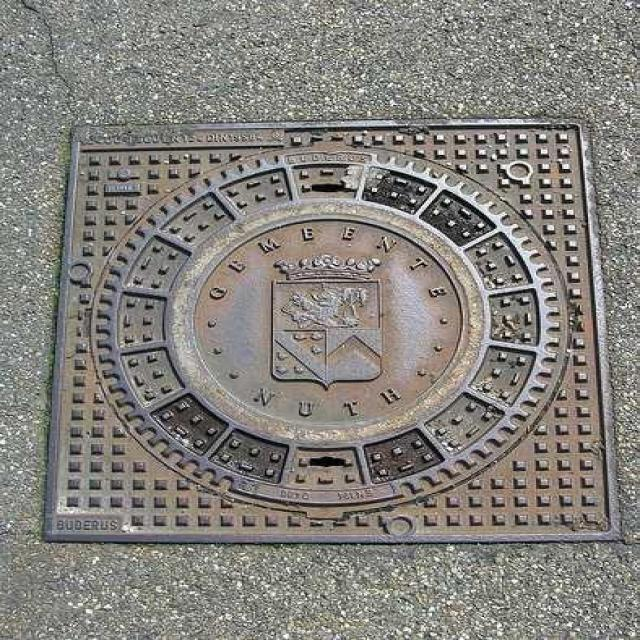manhole: (48, 120, 619, 542)
